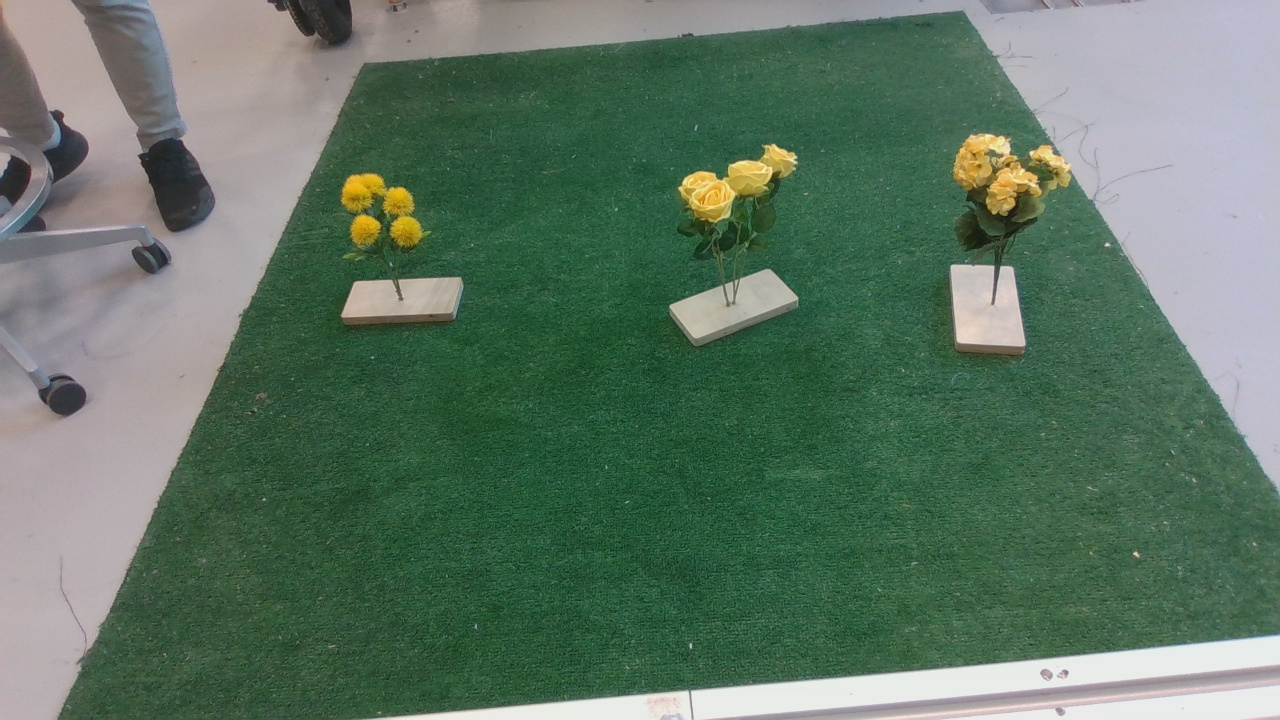dandelion: (332, 168, 442, 274)
geranium: (952, 136, 1082, 272)
rose: (675, 140, 816, 269)
